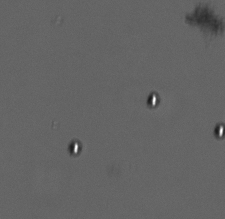Living Cell: (67, 138, 83, 156), (146, 91, 161, 109), (213, 122, 224, 142)
